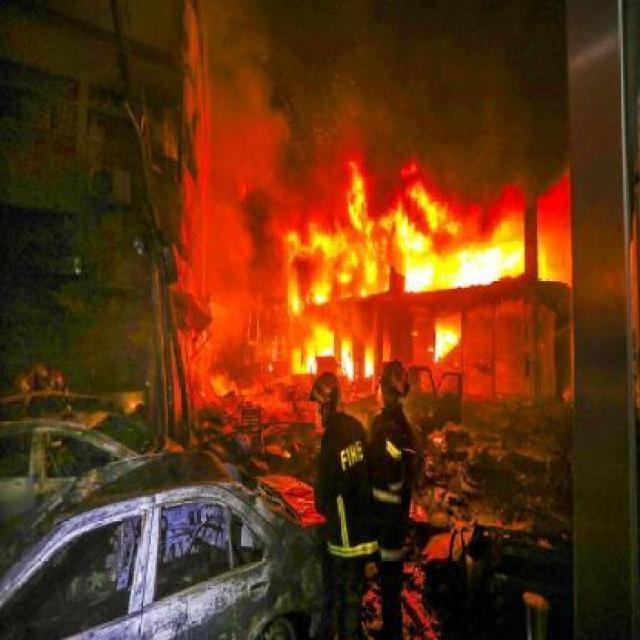Fire: (244, 161, 606, 439)
Smoke: (228, 14, 608, 144)
